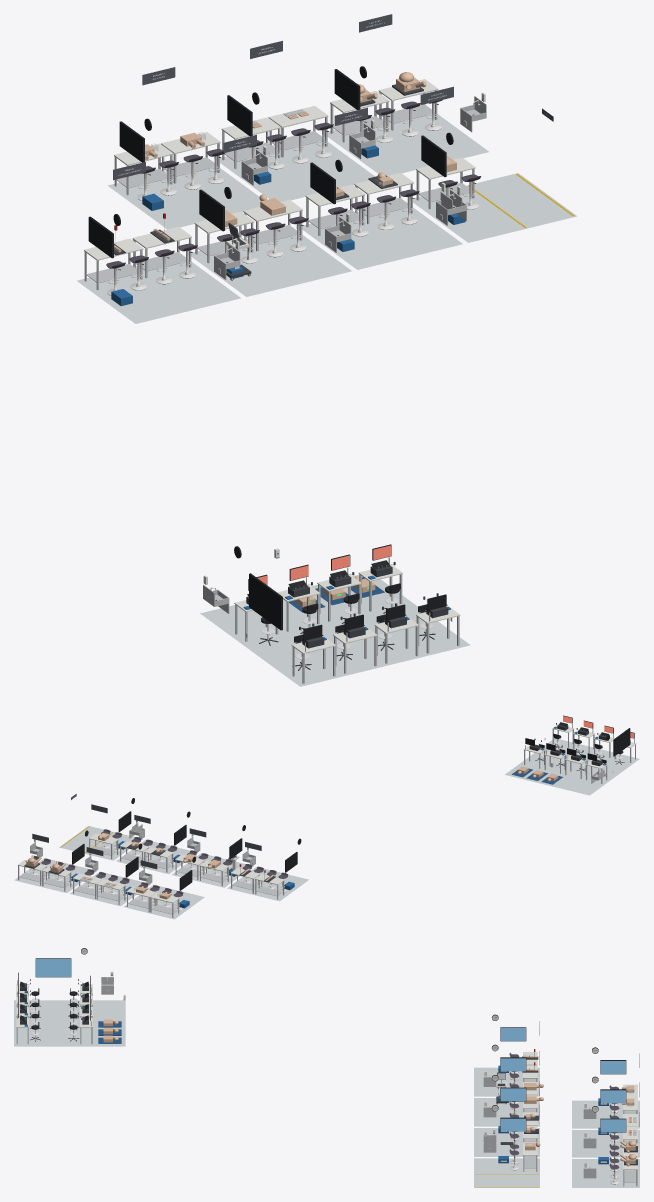
Rendered from 29_n2_salas_de_habilidades.glb.
3 views of the same model, one above another, from view 1: azimuth 30°, elevation 25°; view 2: azimuth 150°, elevation 25°; view 3: azimuth 270°, elevation 25° (orthographic). The views are drawn at different scales.
Parts seen in each view (by area): view 1: mesa_trabajo (×13), piso · Habilidades 8 · sala grande de fidelidad intermedia, estacion_caja_lapa (×7), piso · Habilidades 4 · baja fidelidad, piso · Habilidades 1 · baja fidelidad, piso · Habilidades 3 · baja fidelidad, piso · Habilidades 2 · baja fidelidad, piso · Habilidades 5 · baja fidelidad, piso · Habilidades 7 · baja fidelidad, piso · Habilidades 6 · baja fidelidad, pantalla_75; view 2: mesa_trabajo (×12), piso · Habilidades 8 · sala grande de fidelidad intermedia, piso · Habilidades 4 · baja fidelidad, piso · Habilidades 5 · baja fidelidad, piso · Habilidades 1 · baja fidelidad, piso · Habilidades 7 · baja fidelidad, piso · Habilidades 6 · baja fidelidad, piso · Habilidades 3 · baja fidelidad, piso · Habilidades 2 · baja fidelidad, pantalla_75, estacion_caja_lapa; view 3: piso · Habilidades 8 · sala grande de fidelidad intermedia, pantalla_55 (×7), piso · Habilidades 4 · baja fidelidad, piso · Habilidades 7 · baja fidelidad, piso · Habilidades 6 · baja fidelidad, piso · Habilidades 3 · baja fidelidad, piso · Habilidades 5 · baja fidelidad, piso · Habilidades 2 · baja fidelidad, piso · Habilidades 1 · baja fidelidad, pantalla_75.
Part boxes in pixels (x1,y1,x2,y2): mesa_trabajo (×13): (84, 79, 475, 290); piso · Habilidades 8 · sala grande de fidelidad intermedia: (200, 574, 470, 686); estacion_caja_lapa (×7): (277, 544, 460, 683); piso · Habilidades 4 · baja fidelidad: (410, 173, 576, 242); piso · Habilidades 1 · baja fidelidad: (77, 261, 240, 323); piso · Habilidades 3 · baja fidelidad: (302, 207, 462, 269); piso · Habilidades 2 · baja fidelidad: (188, 234, 351, 296); piso · Habilidades 5 · baja fidelidad: (107, 168, 260, 229); piso · Habilidades 7 · baja fidelidad: (327, 114, 488, 175); piso · Habilidades 6 · baja fidelidad: (220, 140, 374, 201); pantalla_75: (249, 573, 282, 630); mesa_trabajo (×12): (18, 833, 284, 917); piso · Habilidades 8 · sala grande de fidelidad intermedia: (505, 738, 639, 795); piso · Habilidades 4 · baja fidelidad: (59, 826, 142, 860); piso · Habilidades 5 · baja fidelidad: (123, 884, 204, 919); piso · Habilidades 1 · baja fidelidad: (227, 867, 308, 901); piso · Habilidades 7 · baja fidelidad: (14, 858, 96, 893); piso · Habilidades 6 · baja fidelidad: (69, 871, 150, 906); piso · Habilidades 3 · baja fidelidad: (116, 839, 197, 874); piso · Habilidades 2 · baja fidelidad: (172, 853, 253, 887); pantalla_75: (613, 728, 630, 756); estacion_caja_lapa: (573, 720, 595, 752); piso · Habilidades 8 · sala grande de fidelidad intermedia: (14, 1000, 125, 1046); pantalla_55 (×7): (500, 1027, 626, 1132); piso · Habilidades 4 · baja fidelidad: (474, 1158, 539, 1187); piso · Habilidades 7 · baja fidelidad: (572, 1159, 639, 1187); piso · Habilidades 6 · baja fidelidad: (572, 1130, 639, 1157); piso · Habilidades 3 · baja fidelidad: (474, 1128, 539, 1156); piso · Habilidades 5 · baja fidelidad: (572, 1100, 639, 1128); piso · Habilidades 2 · baja fidelidad: (474, 1098, 539, 1126); piso · Habilidades 1 · baja fidelidad: (474, 1067, 539, 1096); pantalla_75: (35, 958, 71, 977).
Size of the model in its own units: 21.3 by 2.95 by 29.4.
34 materials, 3 textured.
